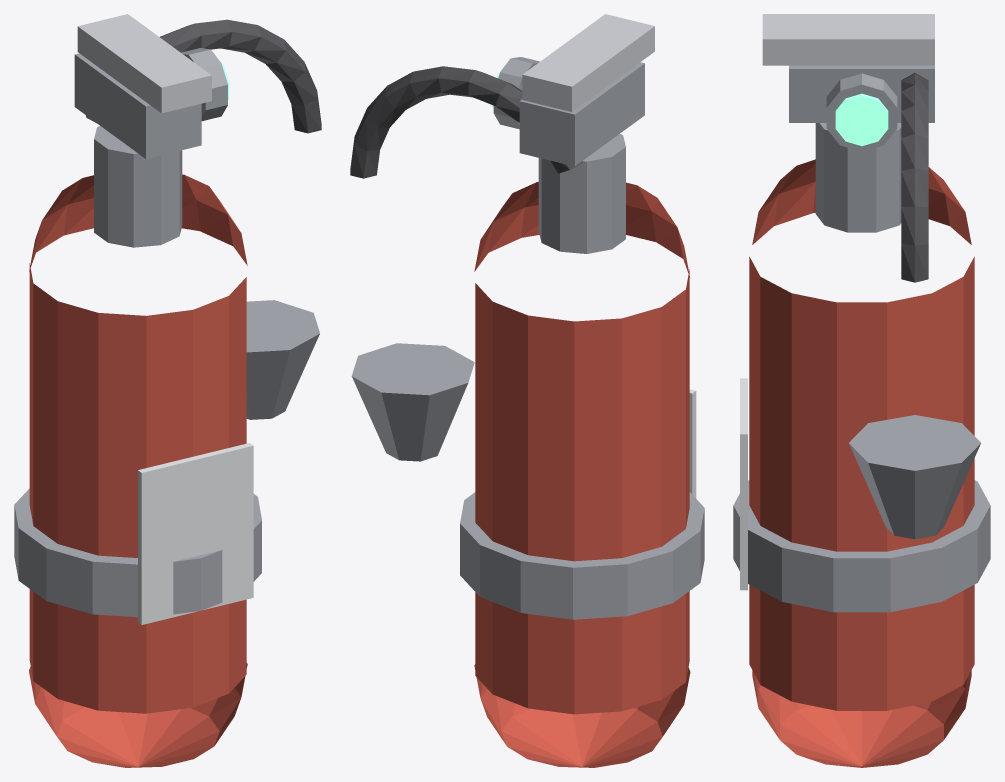
File: prop_extinguisher.glb
3 views of the same model, side by side, from view 1: azimuth 30°, elevation 25°; view 2: azimuth 150°, elevation 25°; view 3: azimuth 270°, elevation 25° (orthographic). The views are drawn at different scales.
Visible parts, largest first — view 1: prop_extinguisher; view 2: prop_extinguisher; view 3: prop_extinguisher.
Boxes of the visible parts, x1,y1,x2,y2 form: prop_extinguisher: (14, 14, 321, 767); prop_extinguisher: (350, 14, 704, 767); prop_extinguisher: (733, 14, 990, 767).
Bounding box in the file's own units: 0.2816 × 0.616 × 0.194.
